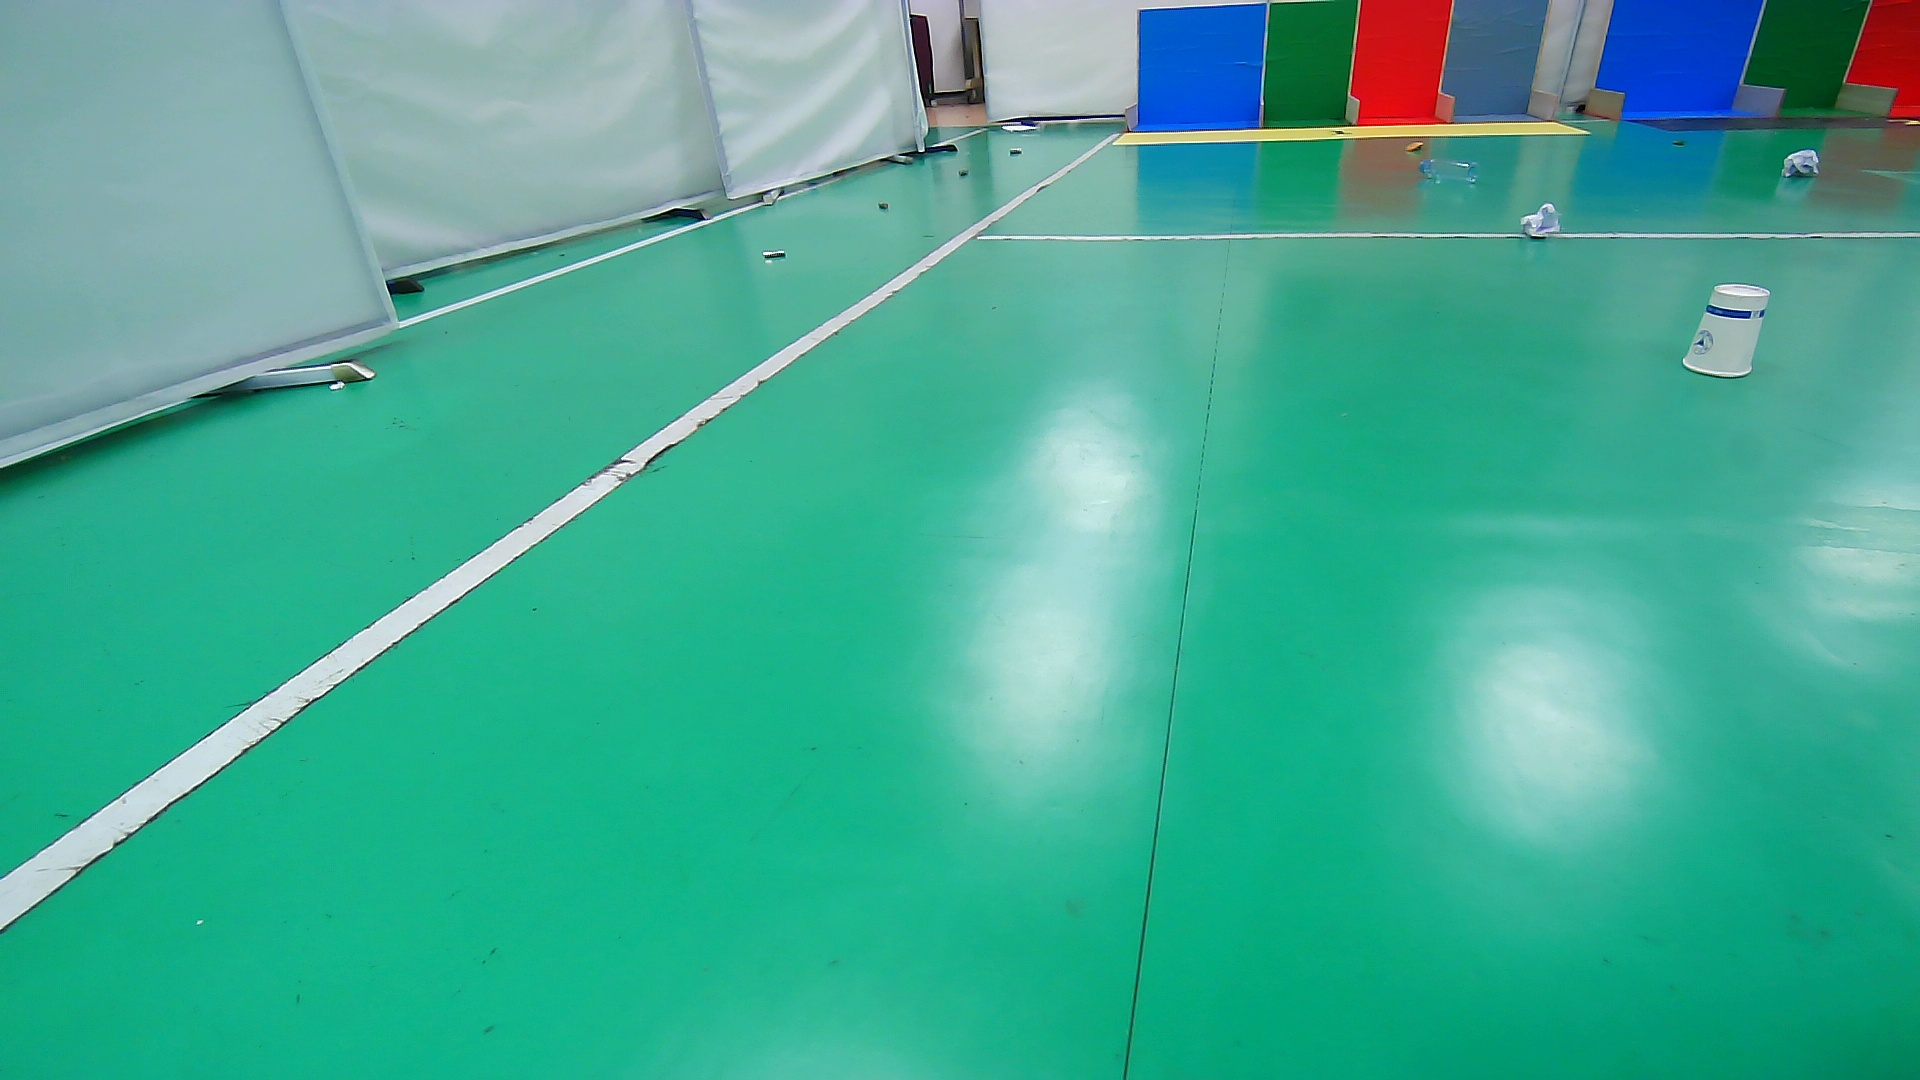battery: (749, 240, 798, 268), (1000, 140, 1034, 162), (869, 194, 899, 218), (1664, 131, 1695, 153), (949, 161, 978, 182)
bottle: (1414, 156, 1484, 186)
orangepeel: (1398, 137, 1431, 156)
papercup: (1677, 280, 1775, 380)
spitball: (1516, 200, 1563, 244), (1780, 146, 1821, 181)
